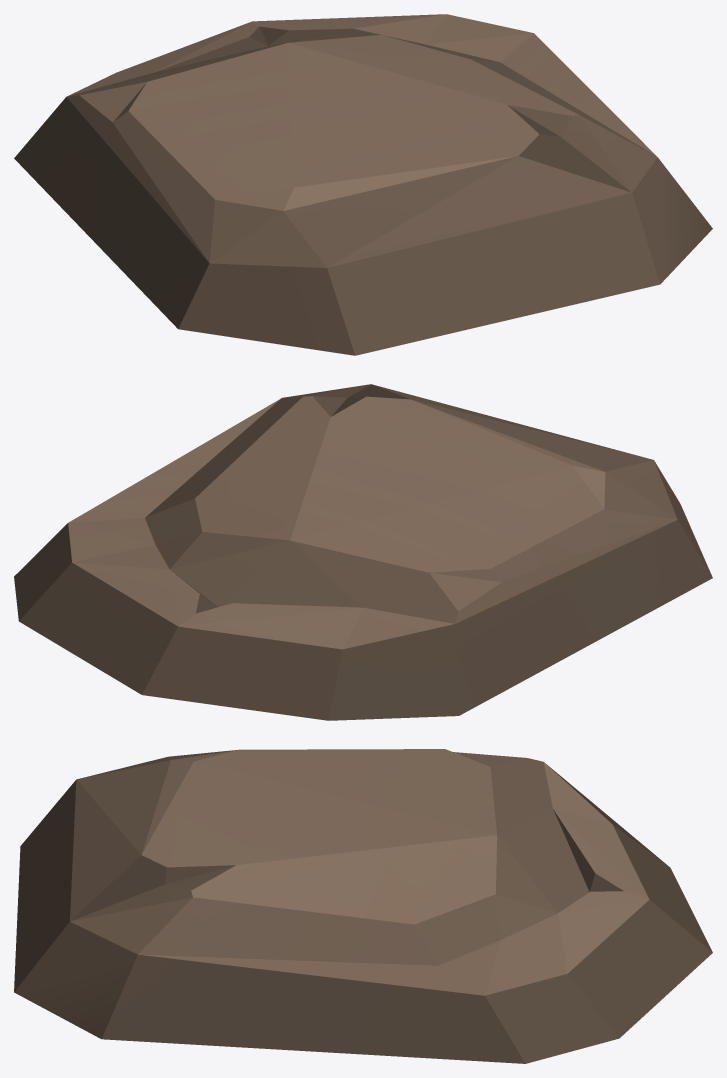
File: Rock_Slab_2A.fbx
3 views of the same model, one above another, from view 1: azimuth 30°, elevation 25°; view 2: azimuth 150°, elevation 25°; view 3: azimuth 270°, elevation 25° (orthographic). The views are drawn at different scales.
Visible parts, largest first — view 1: Rock_Slab_2A; view 2: Rock_Slab_2A; view 3: Rock_Slab_2A.
Boxes of the visible parts, x1,y1,x2,y2 form: Rock_Slab_2A: [14, 14, 712, 355]; Rock_Slab_2A: [14, 384, 712, 720]; Rock_Slab_2A: [14, 749, 712, 1063].
Size of the model in its own units: 3.32 by 0.6175 by 3.65.
